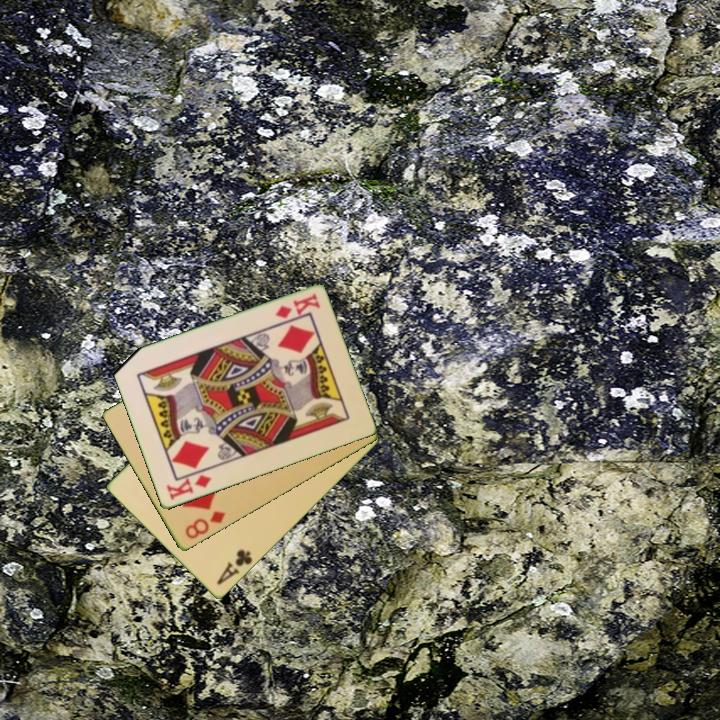8d: (181, 508, 228, 542)
Ac: (213, 546, 255, 588)
Kd: (272, 290, 323, 322), (162, 472, 214, 503)
